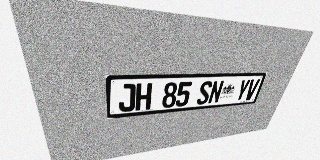5: (175, 81, 192, 107)
8: (161, 82, 179, 108)
H: (135, 83, 152, 111)
J: (119, 83, 136, 112)
N: (207, 80, 225, 104)
S: (196, 81, 213, 105)
V: (243, 79, 260, 100)
Y: (234, 79, 251, 101)
